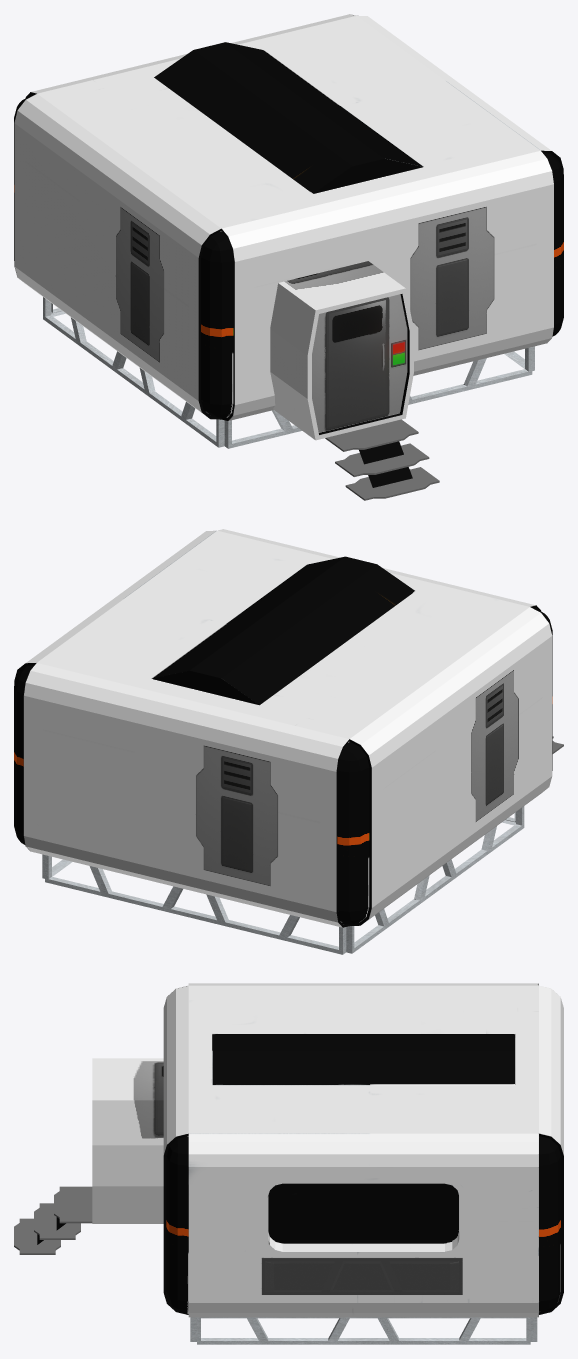
Rendered from habitat_1.glb.
3 views of the same model, one above another, from view 1: azimuth 30°, elevation 25°; view 2: azimuth 150°, elevation 25°; view 3: azimuth 270°, elevation 25° (orthographic). The views are drawn at different scales.
Parts seen in each view (by area): view 1: Cube_0, Cube.001_1, Beam1.001_3, Step.002_2, Step Supports_4; view 2: Cube_0, Beam1.001_3; view 3: Cube_0, Cube.001_1, Beam1.001_3, Step.002_2.
Part boxes in pixels (box(x1,y1,x2,y2)): Cube_0: box(14, 14, 563, 420); Cube.001_1: box(270, 261, 413, 440); Beam1.001_3: box(43, 297, 534, 448); Step.002_2: box(325, 419, 439, 500); Step Supports_4: box(359, 441, 412, 487); Cube_0: box(14, 529, 552, 927); Beam1.001_3: box(42, 806, 524, 954); Cube_0: box(163, 983, 563, 1317); Cube.001_1: box(92, 1058, 163, 1223); Beam1.001_3: box(190, 1317, 537, 1344); Step.002_2: box(14, 1186, 92, 1254).
Bounding box in the file's own units: 12 × 7.56 × 16.48.
1 material, 1 textured.
